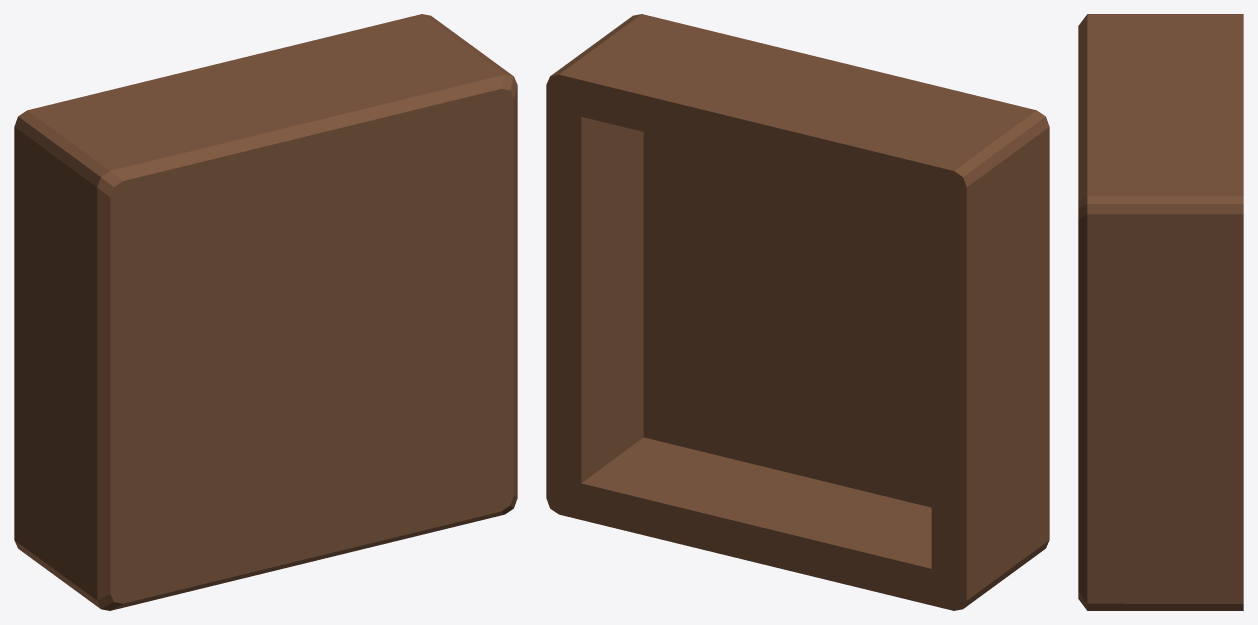
File: cm_cap.glb
3 views of the same model, side by side, from view 1: azimuth 30°, elevation 25°; view 2: azimuth 150°, elevation 25°; view 3: azimuth 270°, elevation 25° (orthographic). The views are drawn at different scales.
Parts seen in each view (by area): view 1: Cube.114; view 2: Cube.114; view 3: Cube.114.
Boxes of the visible parts, bbox=[...] form: Cube.114: bbox=[14, 14, 517, 610]; Cube.114: bbox=[546, 14, 1049, 610]; Cube.114: bbox=[1078, 14, 1243, 610].
Size of the model in its own units: 18 by 18 by 6.5.
